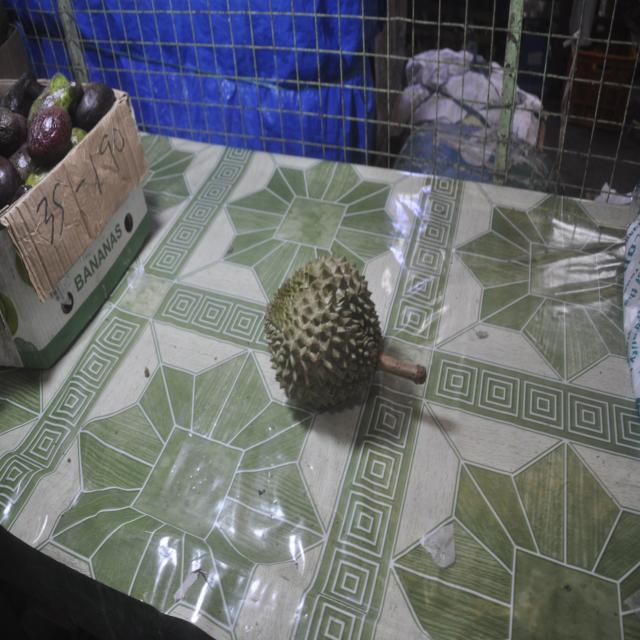mature: (264, 255, 426, 408)
